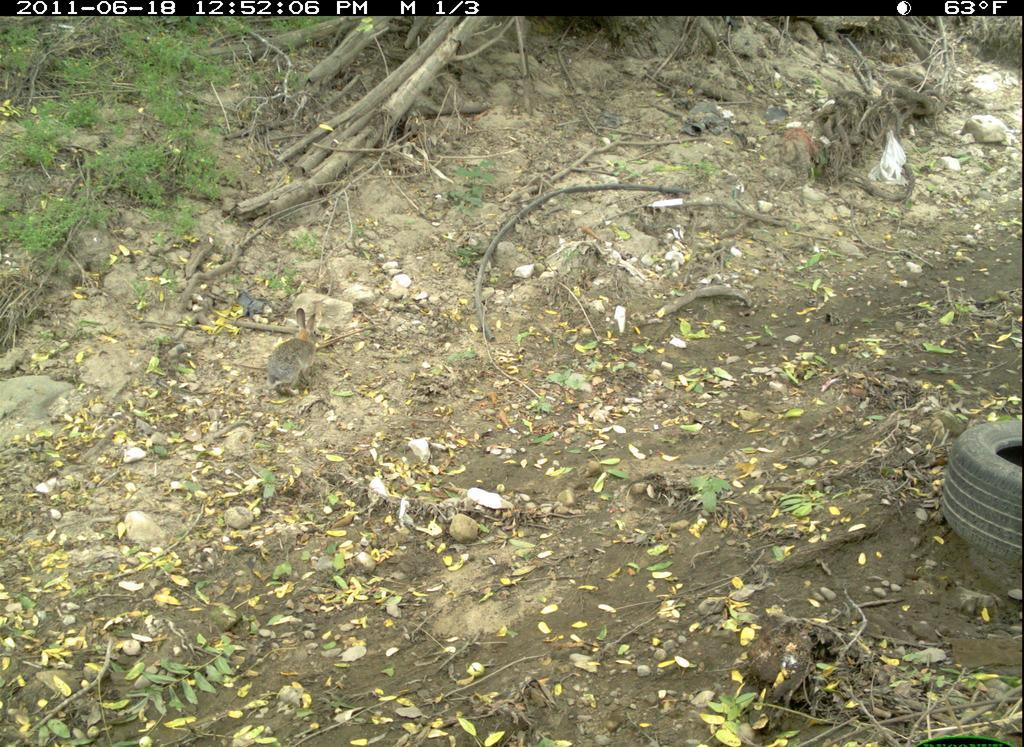rabbit: (259, 304, 331, 402)
